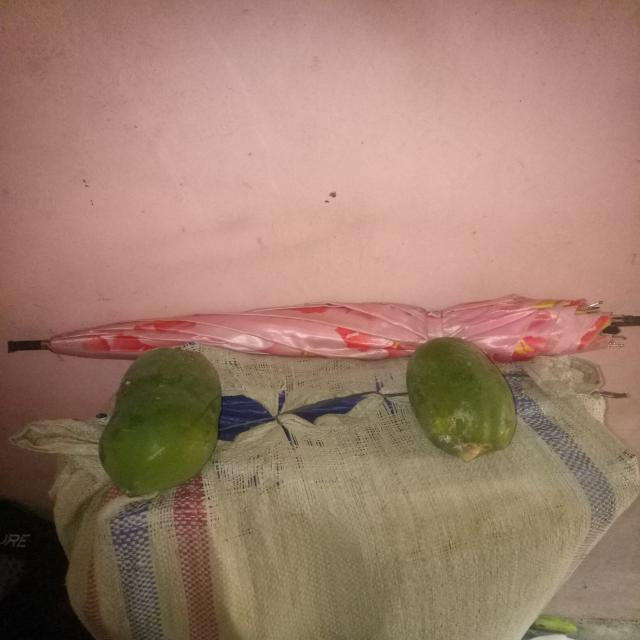Pepaya unrippen: (102, 342, 220, 502), (399, 333, 519, 462)
